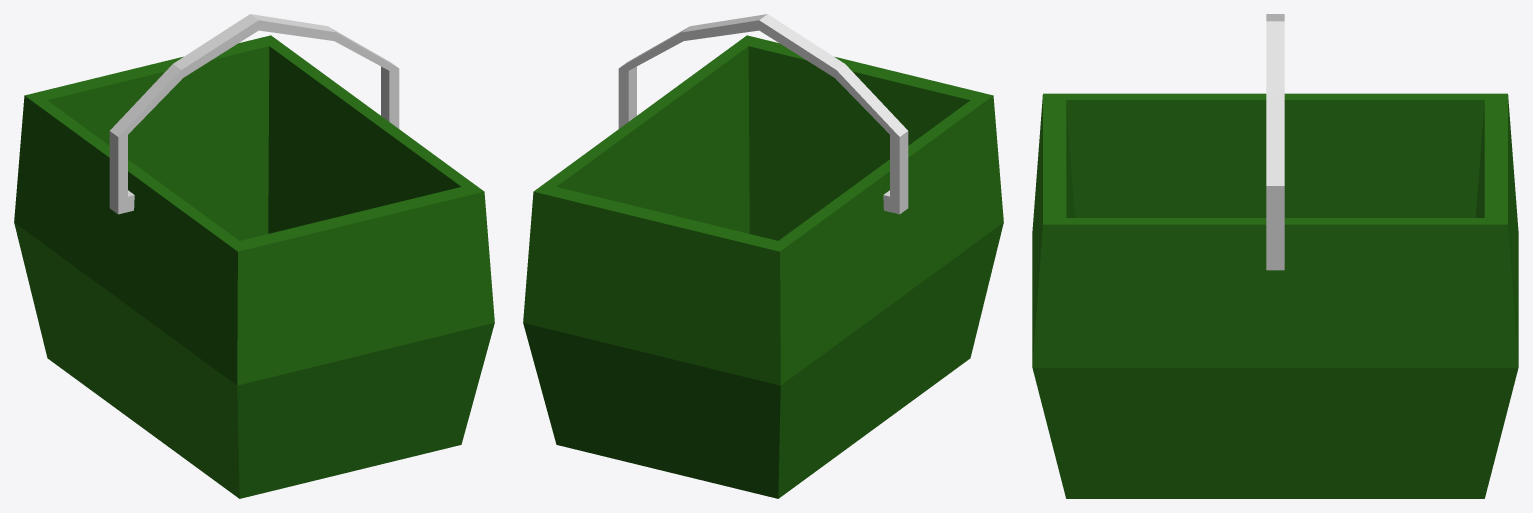
File: Mop Bucket.fbx
The picture shows the model from 3 angles, left to right: view 1: azimuth 30°, elevation 25°; view 2: azimuth 150°, elevation 25°; view 3: azimuth 270°, elevation 25°; orthographic projection. The views are drawn at different scales.
Visible parts, largest first — view 1: Mop Bucket, Handle; view 2: Mop Bucket, Handle; view 3: Mop Bucket, Handle.
Boxes of the visible parts, box(x1,y1,x2,y2) form: Mop Bucket: box(14, 35, 494, 498); Handle: box(109, 14, 399, 214); Mop Bucket: box(523, 35, 1003, 498); Handle: box(618, 14, 908, 214); Mop Bucket: box(1032, 93, 1518, 498); Handle: box(1266, 14, 1284, 270).
Bounding box in the file's own units: 228 × 298 × 313.
